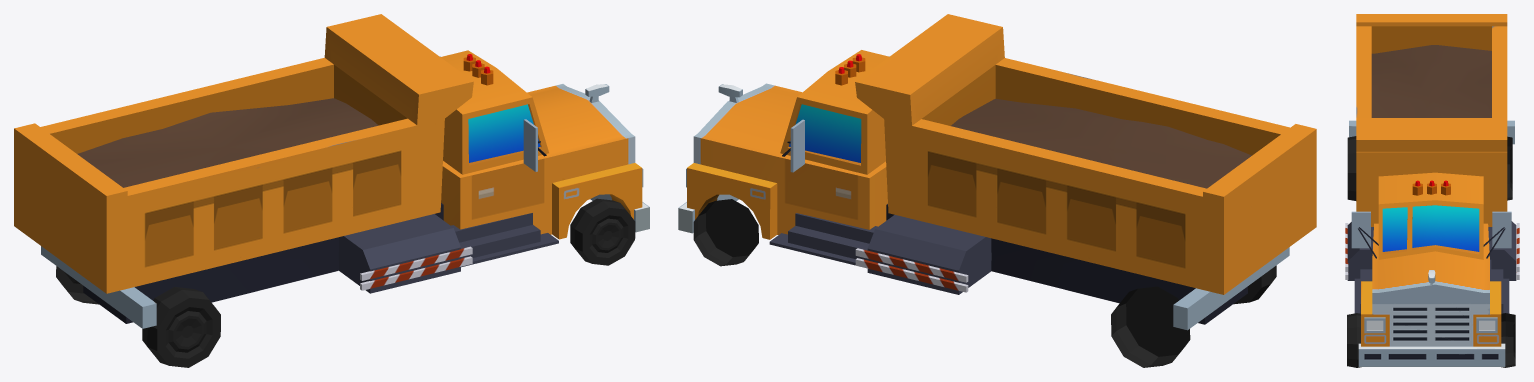
Rendered from garbage_Truck.fbx.
3 views of the same model, side by side, from view 1: azimuth 30°, elevation 25°; view 2: azimuth 150°, elevation 25°; view 3: azimuth 270°, elevation 25° (orthographic). The views are drawn at different scales.
Parts seen in each view (by area): view 1: garbage_Truck; view 2: garbage_Truck; view 3: garbage_Truck.
Part boxes in pixels (bbox=[...]): garbage_Truck: bbox=[14, 14, 649, 367]; garbage_Truck: bbox=[678, 14, 1316, 367]; garbage_Truck: bbox=[1345, 14, 1519, 367].
Size of the model in its own units: 504 by 189 by 171.
3 materials, 3 textured.
